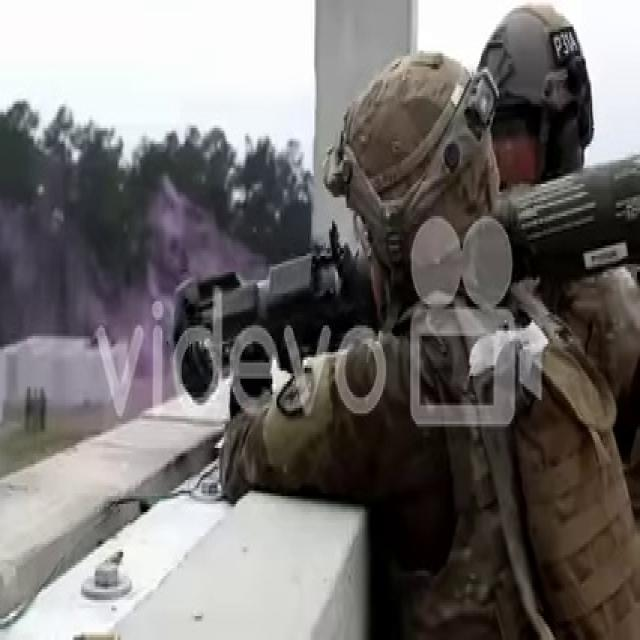bazooka: (161, 141, 640, 401)
